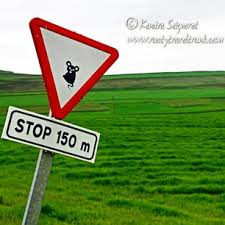yield_sign: (28, 17, 119, 120)
